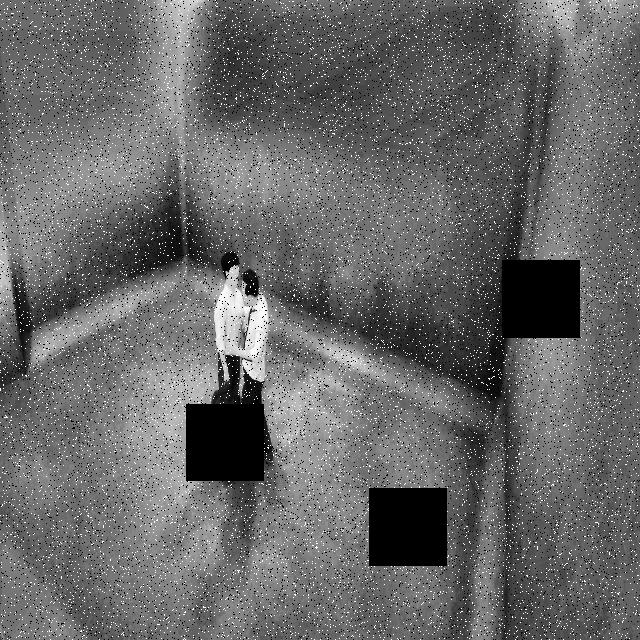assult: (211, 240, 276, 488)
